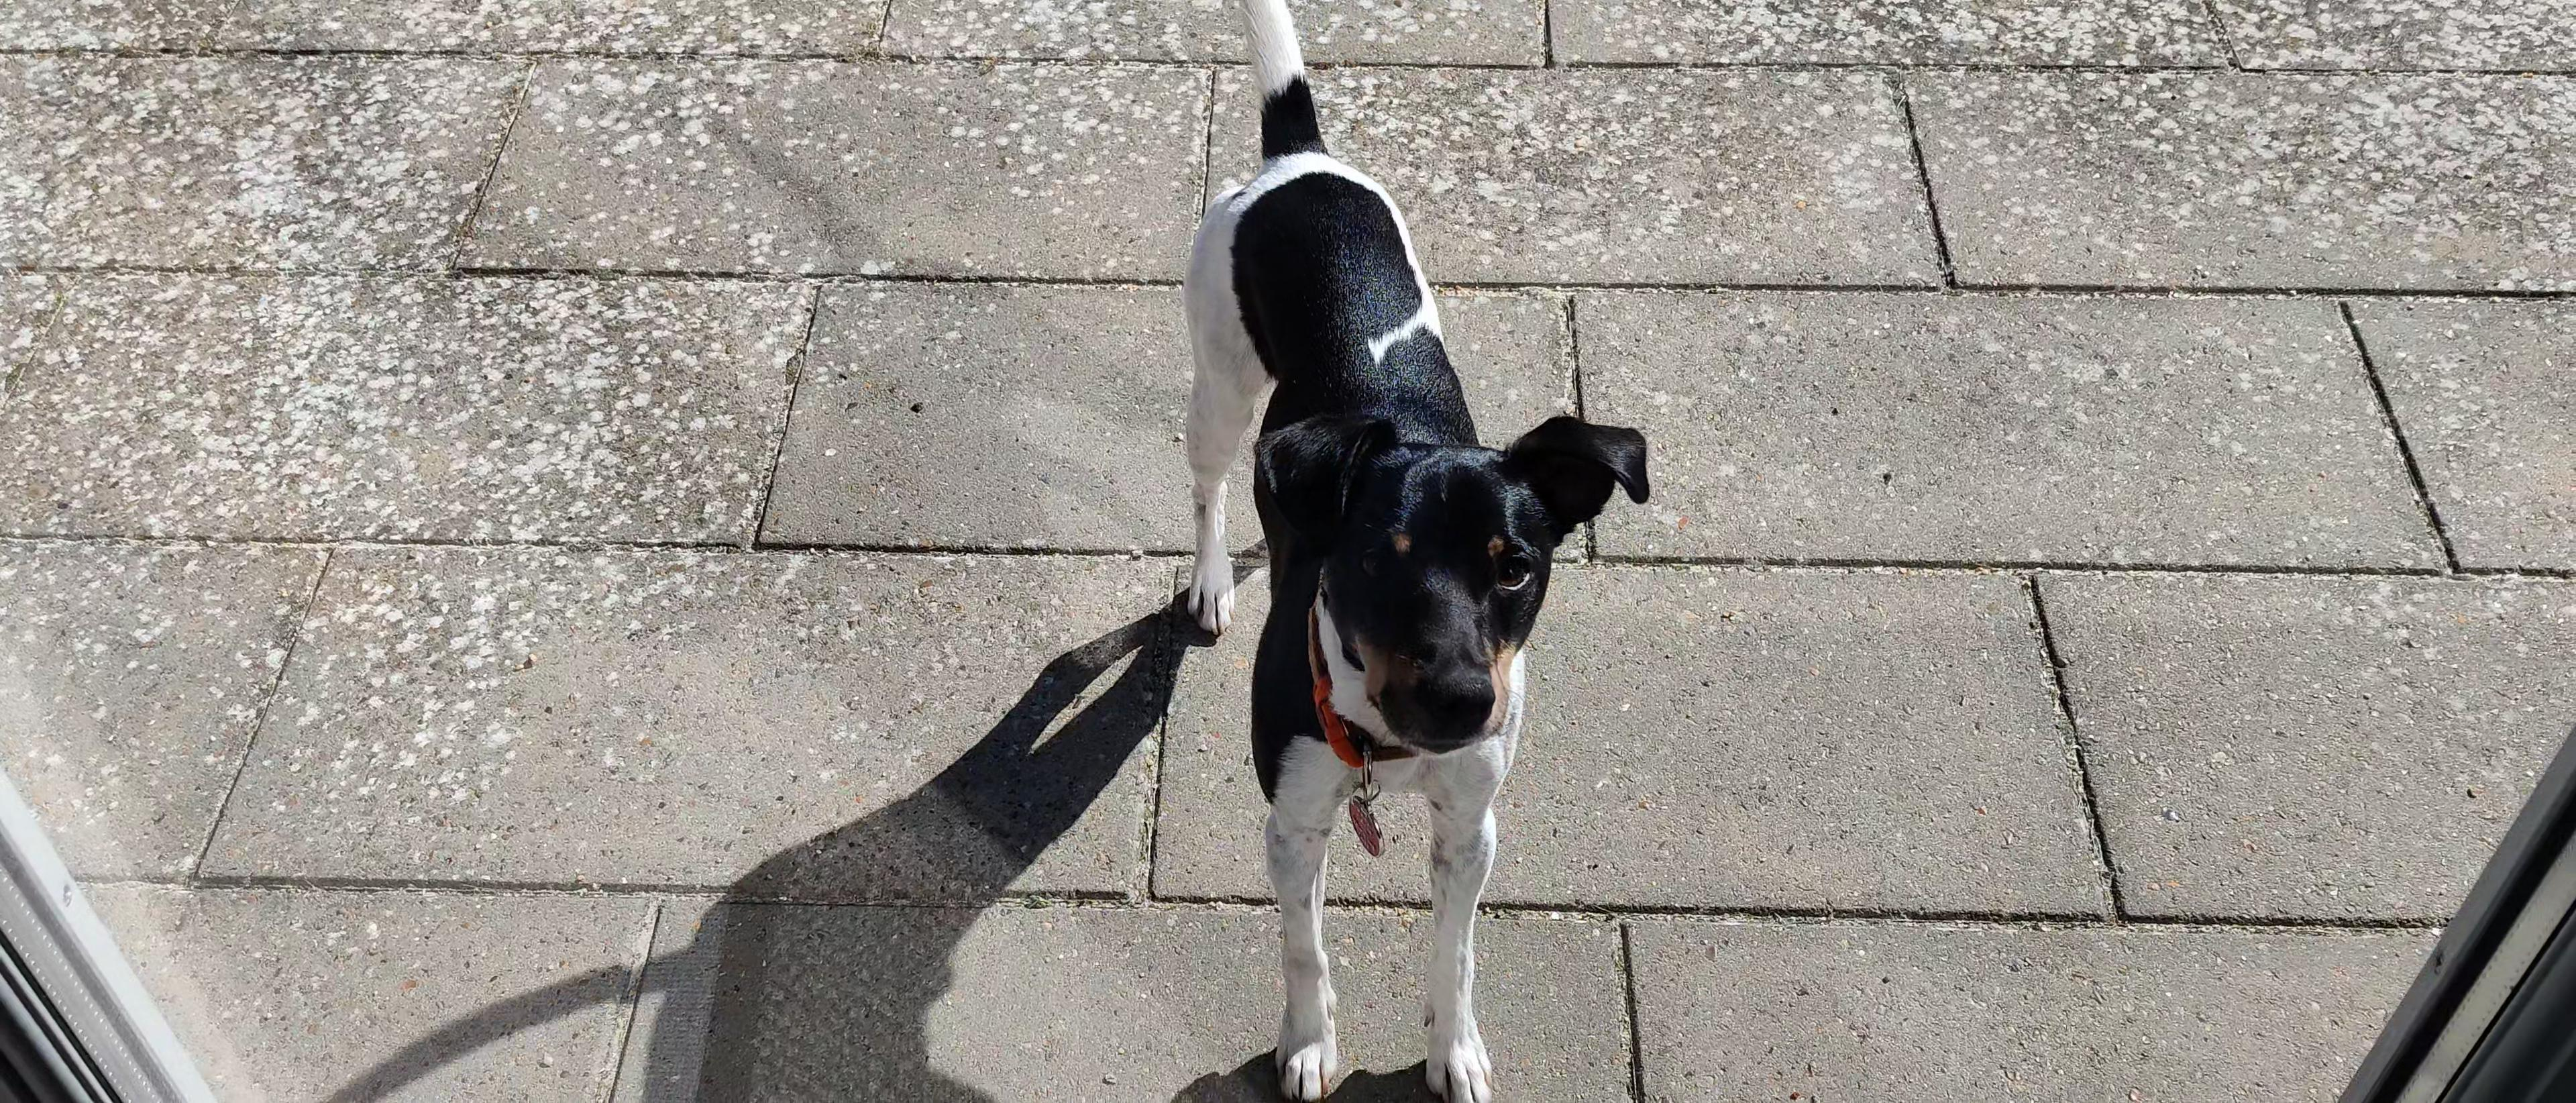Dog: (1171, 0, 1653, 1103)
